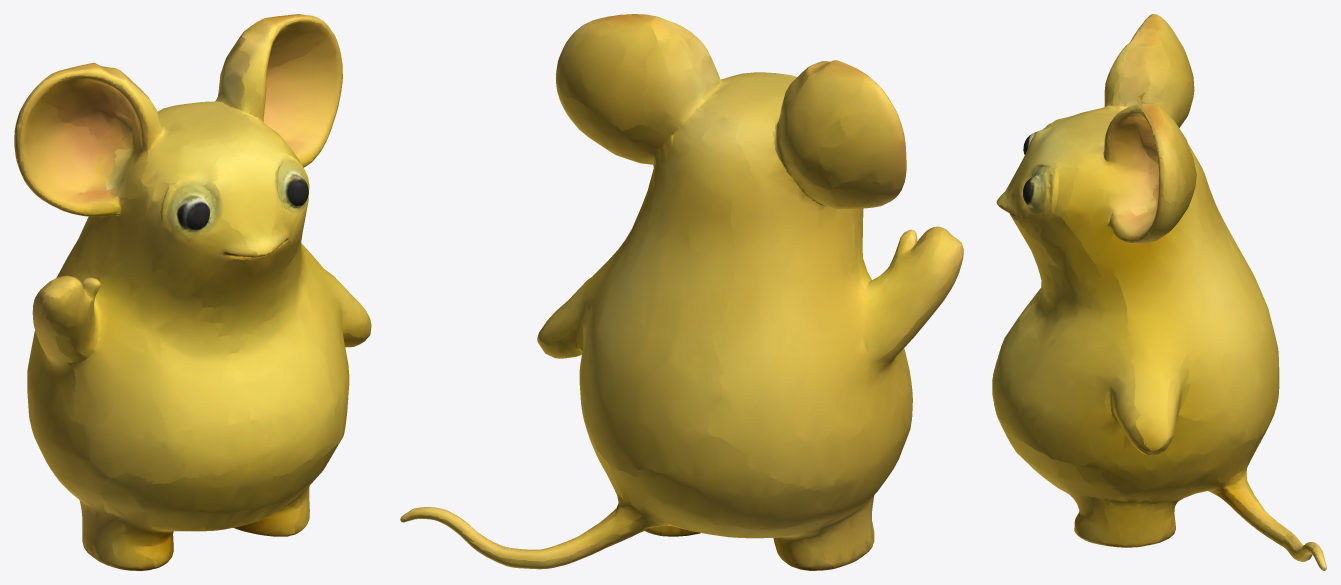
File: naiwa_nashu_runtime.glb
3 views of the same model, side by side, from view 1: azimuth 30°, elevation 25°; view 2: azimuth 150°, elevation 25°; view 3: azimuth 270°, elevation 25° (orthographic). The views are drawn at different scales.
Parts seen in each view (by area): view 1: geometry_0; view 2: geometry_0; view 3: geometry_0.
Part boxes in pixels (box(x1,y1,x2,y2)): geometry_0: box(14, 14, 371, 570); geometry_0: box(400, 14, 963, 570); geometry_0: box(992, 14, 1326, 570).
Bounding box in the file's own units: 0.0875 × 0.1 × 0.0692.
Materials: 1 (1 with a texture image).
